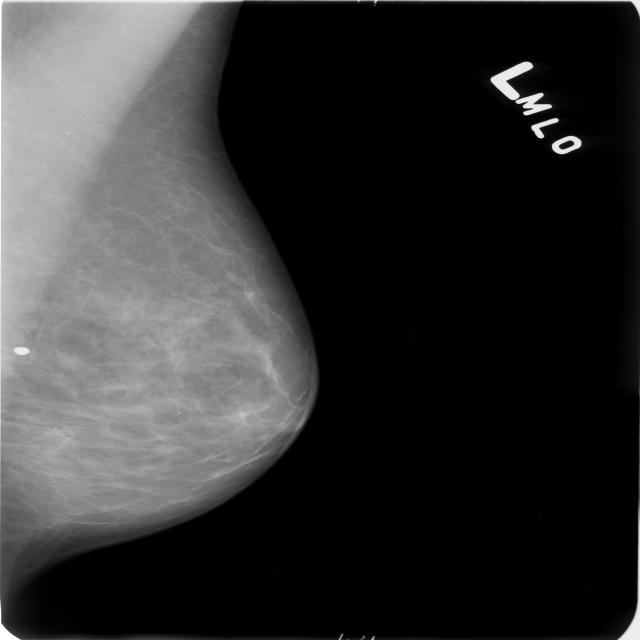normal: (0, 0, 330, 573)
